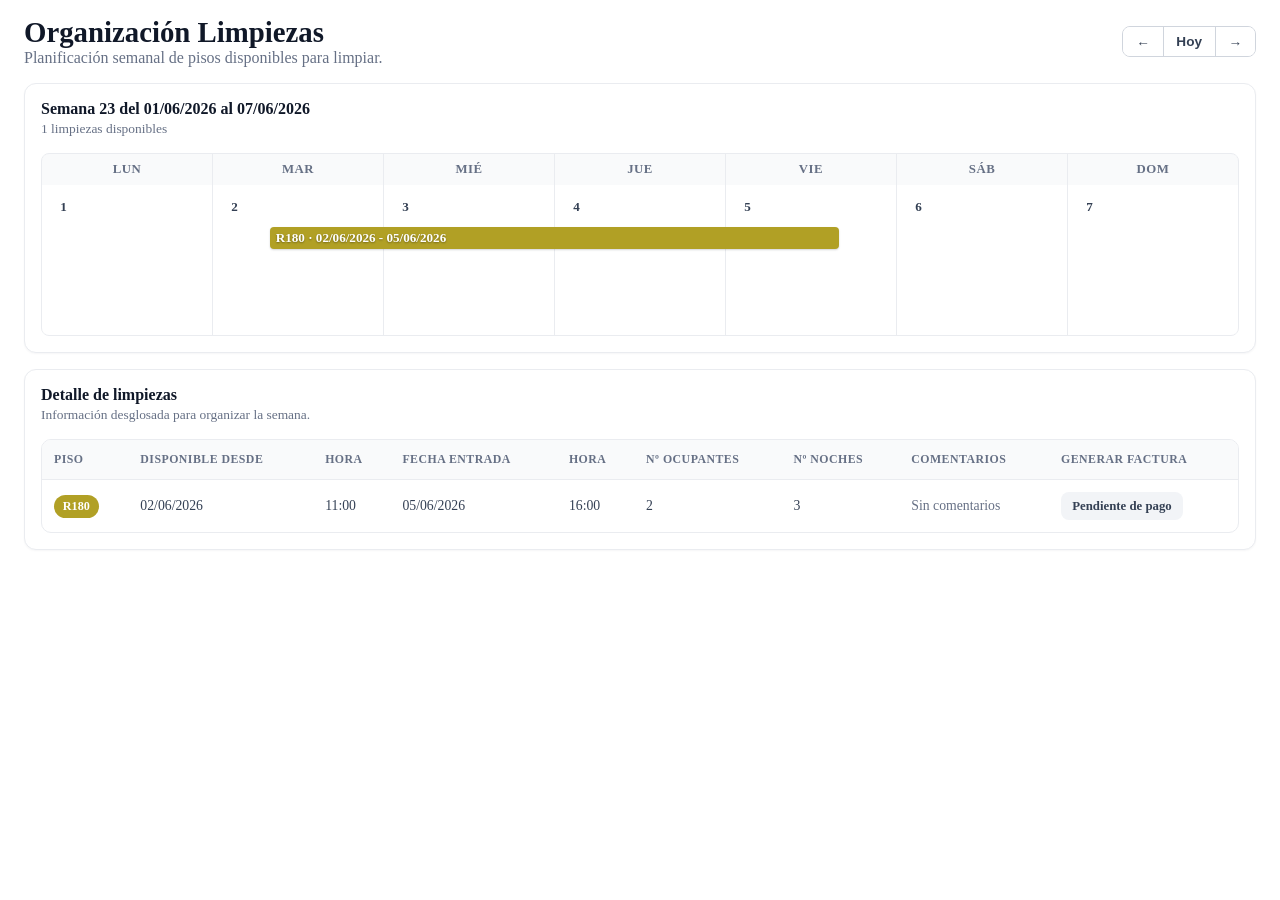
Test: CleaningOrganizationComponent › muestra el recibo de una factura ya creada al pulsar el chip de estado
Click the button with class "bill-state-chip". click: click(1122, 506)
box: [1061, 492, 1183, 520]
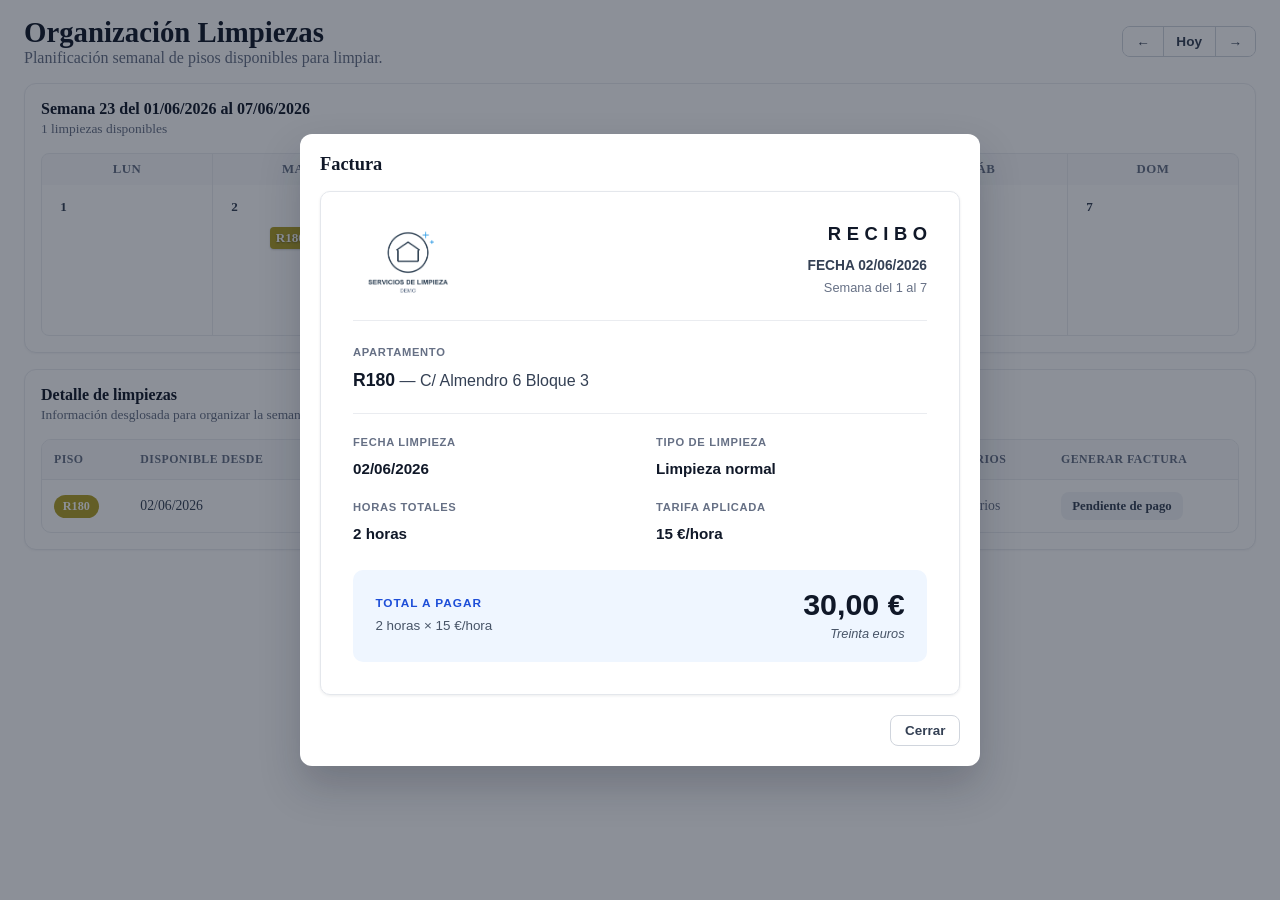
Expected: the element with class "receipt" is shown, [320, 191, 960, 695]
Expected: the text "RECIBO" is shown, [828, 223, 933, 244]
Expected: the text "treinta euros" is shown, [830, 626, 905, 642]
